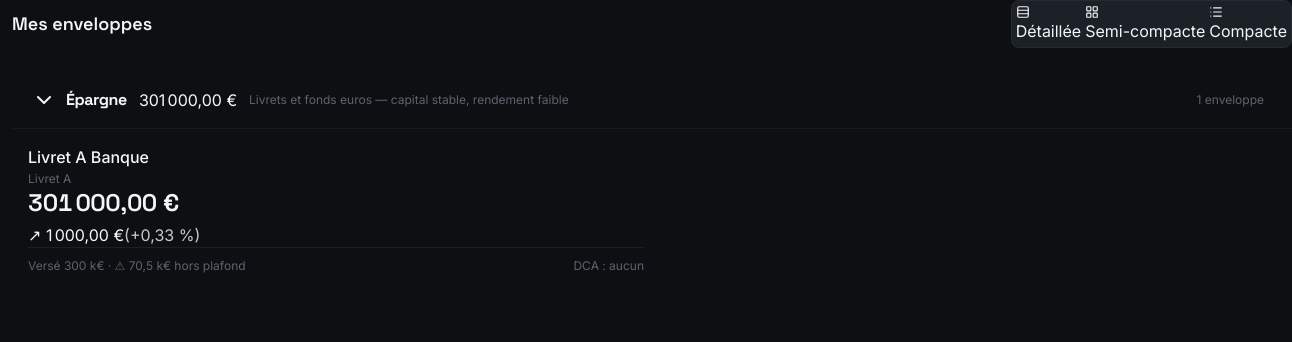
EnvelopeListPanel › affiche un sparkline pour un livret avec une série récente
Step 1. Click the button titled "Détaillée" → (1048, 24), box [1016,5,1081,43]
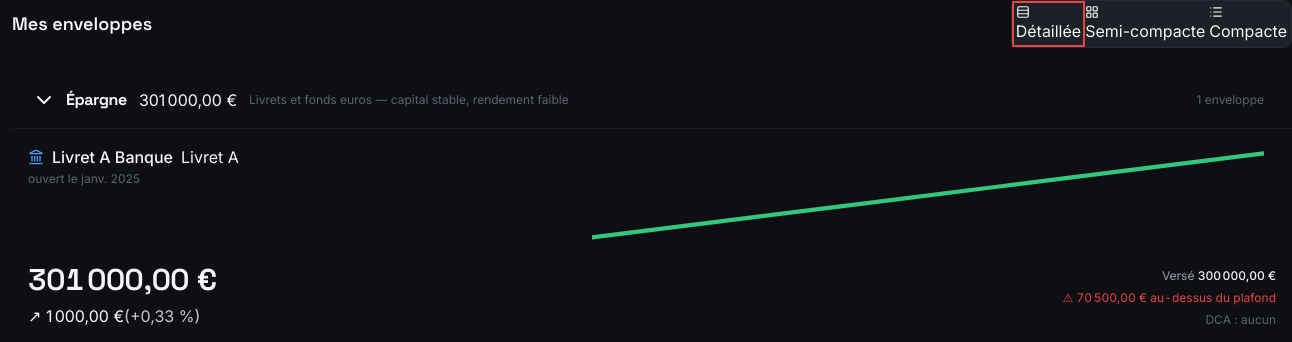
Now the picture named "Évolution récente de la valeur" is shown, box [592,145,1264,246]
